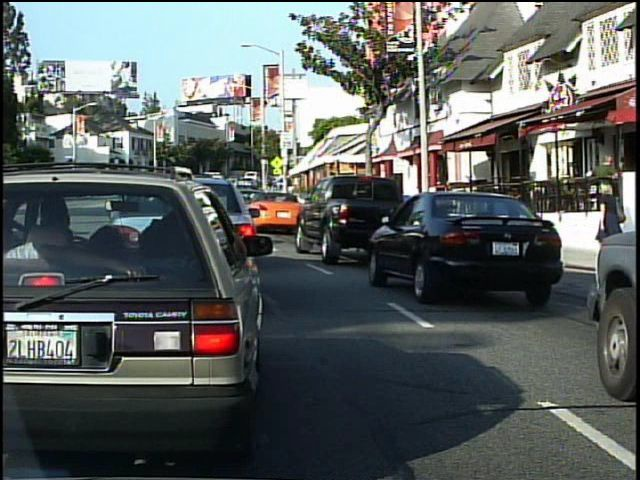person: (595, 177, 631, 258), (589, 148, 623, 232)
